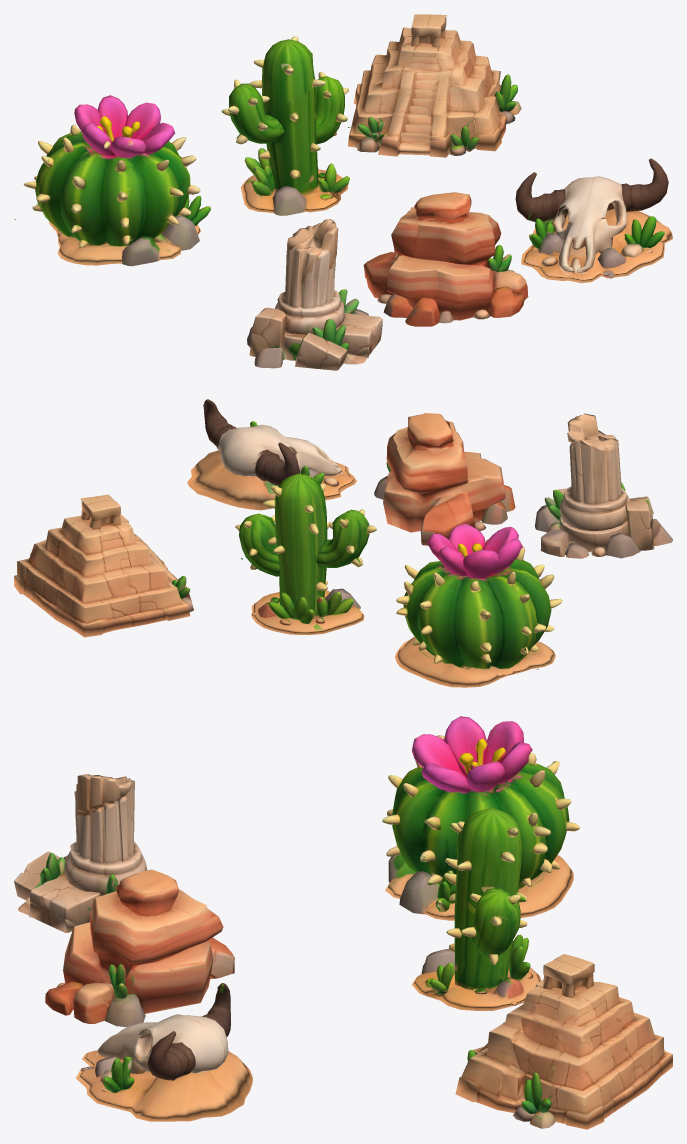
File: props_desert.glb
3 renders of one model, top to bottom at view 1: azimuth 30°, elevation 25°; view 2: azimuth 150°, elevation 25°; view 3: azimuth 270°, elevation 25°, orthographic. The views are drawn at different scales.
Bounding box in the file's own units: 0.9458 × 0.2627 × 0.8857.
1 material, 1 textured.
